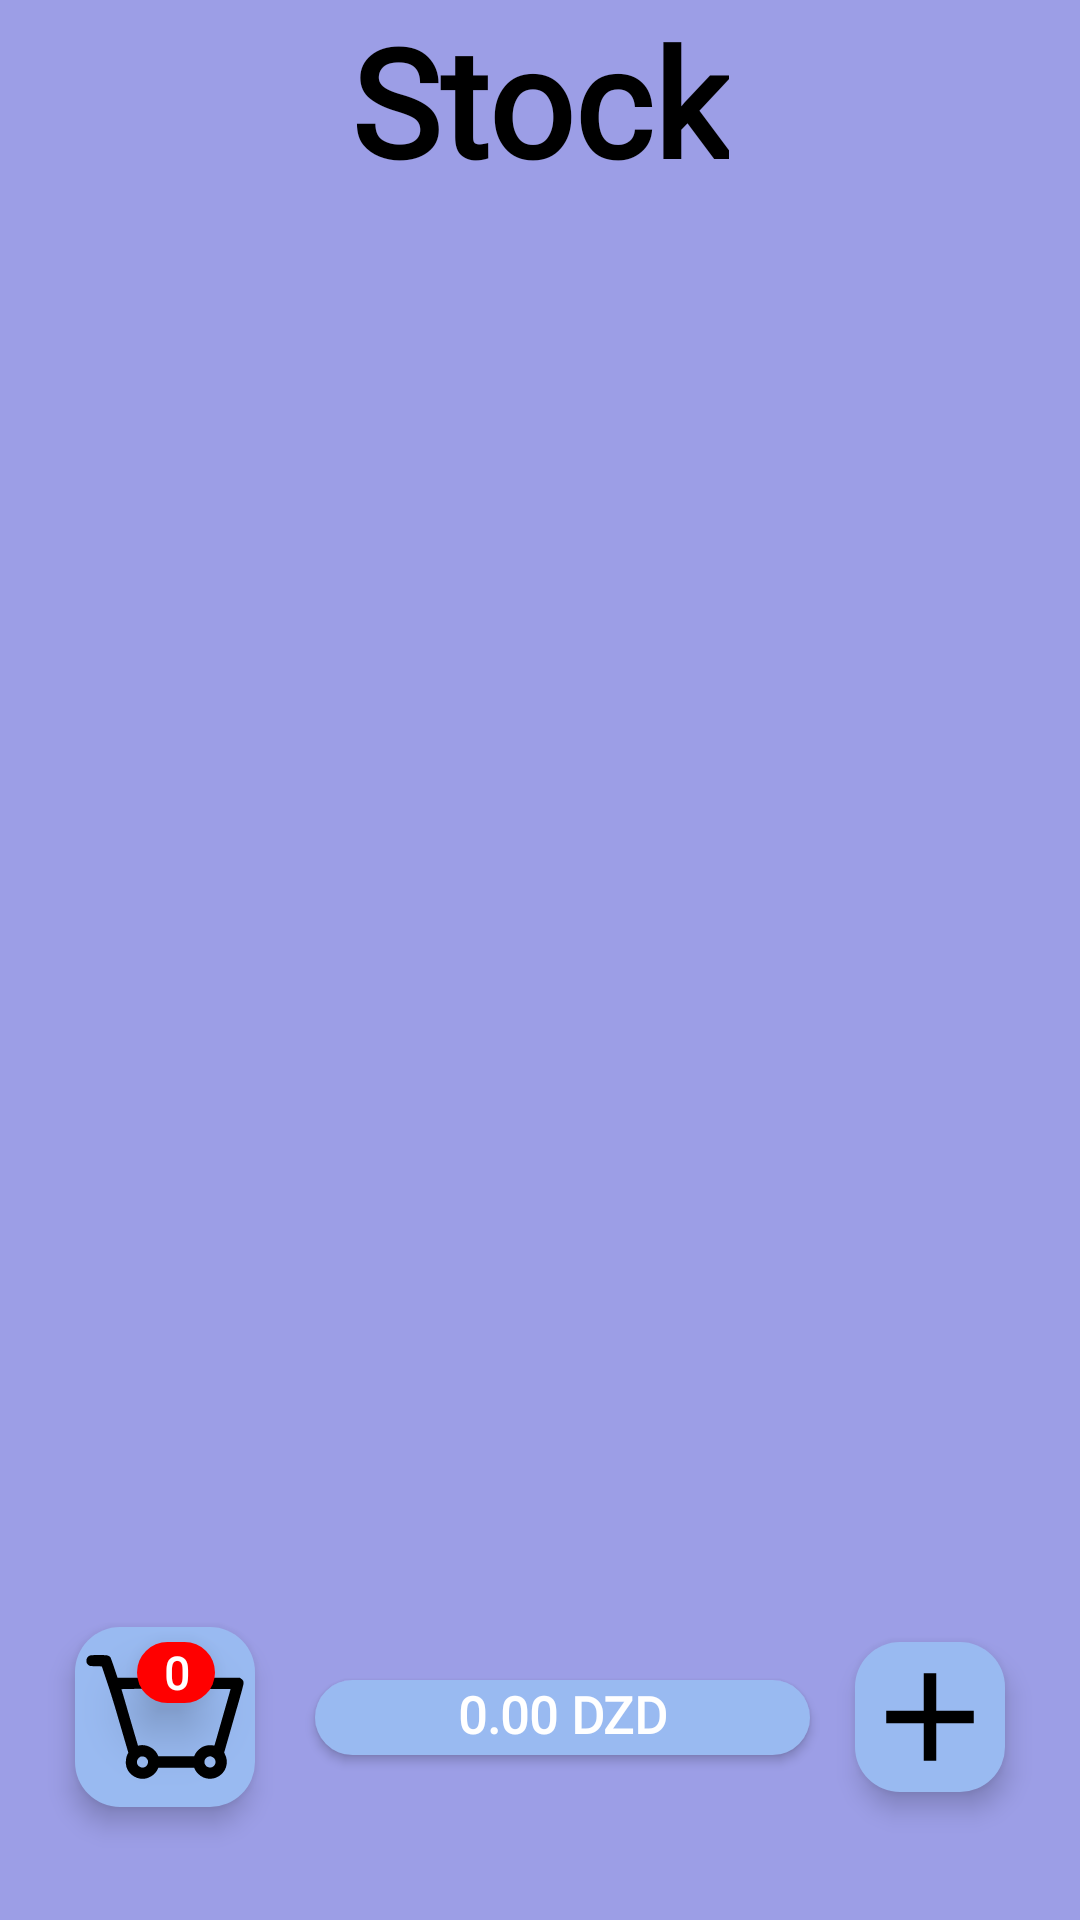

Point at icon controls on the screen. Image size 1080w x 1920h, points as (x=x, y=y).
add: (x=930, y=1717)
